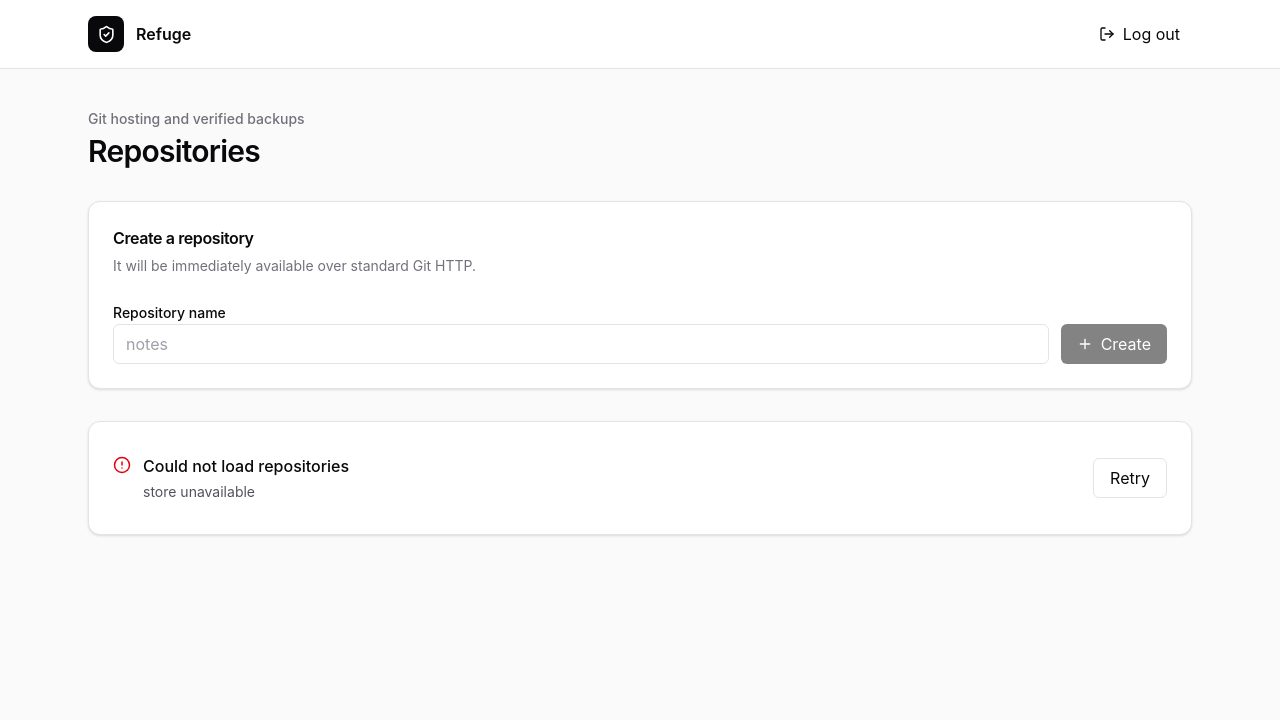
Test: Refuge dashboard › shows a retryable error instead of an empty repository list
Expected: the message shows "store unavailable", x1=143 y1=483 x2=255 y2=500
Expected: the text "No repositories yet." is not shown
What coordinates should you click on to do the following:
click the button "Retry"
I would click on:
 (1130, 478)
Its box is x1=1093 y1=458 x2=1167 y2=498.
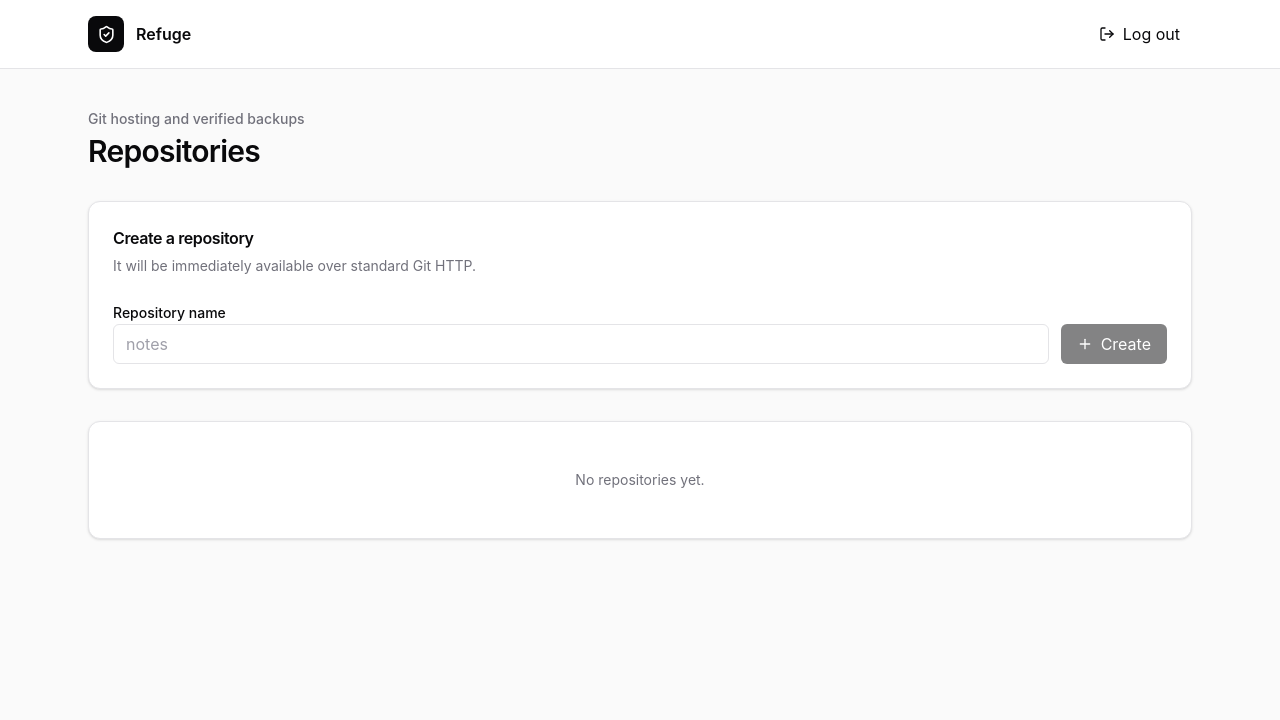
Result: the text "No repositories yet." is shown at x1=575 y1=471 x2=705 y2=488
